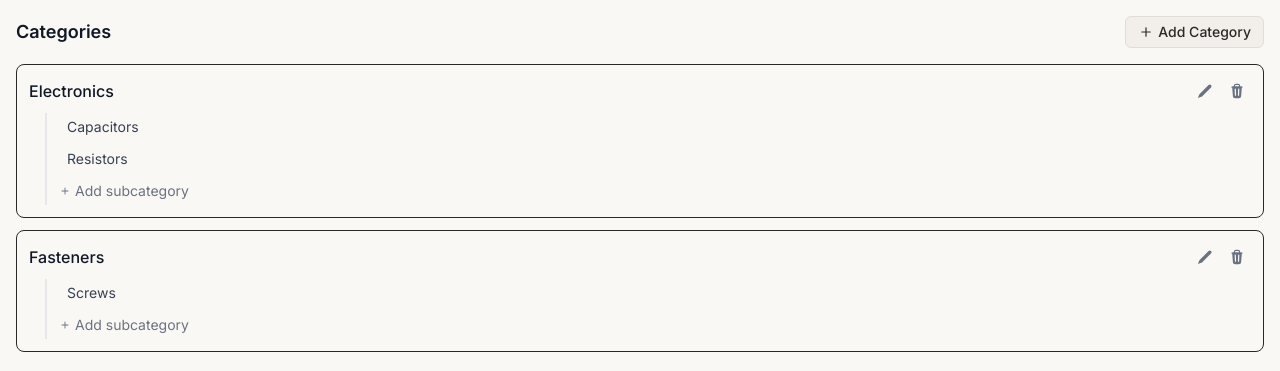
Scenario: CategoryManagement › edit category › should show input with current name when edit is clicked
This screenshot has width=1280, height=371.
What coordinates should you click on to do the following:
click the button named "Edit Electronics"
I would click on:
 (1205, 91)
Its box is [1191, 77, 1219, 105].
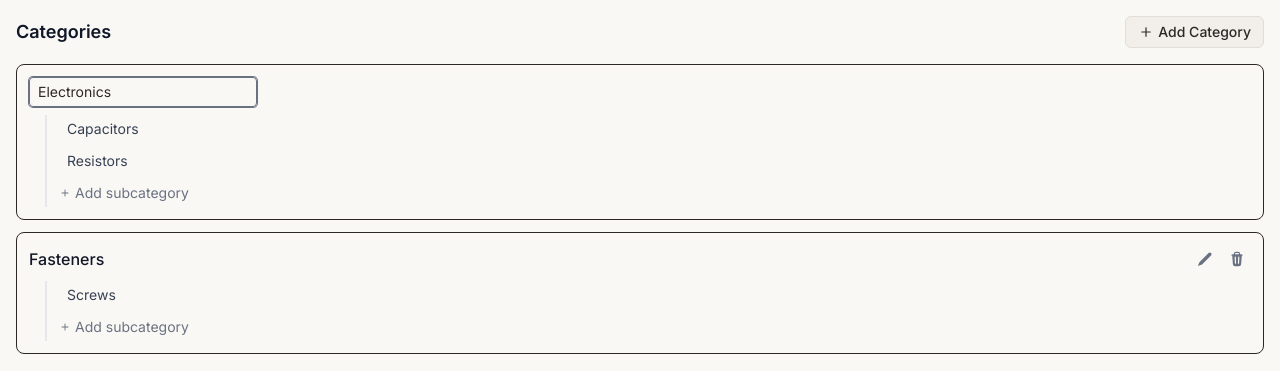
Expected: the field showing "Electronics" is shown, [29, 77, 257, 107]
